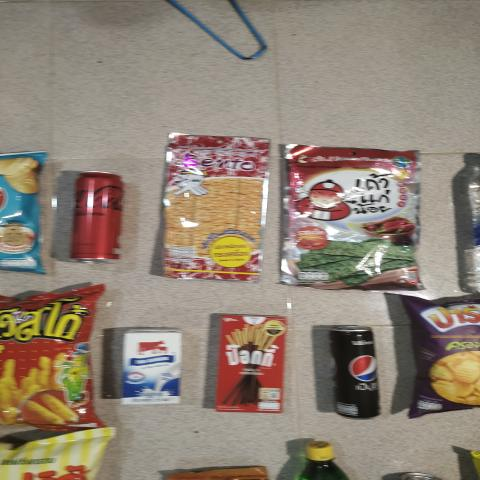bento_red: (170, 137, 261, 275)
coke_red: (69, 174, 120, 266)
pepsi_black: (329, 328, 383, 419)
pokki: (219, 314, 284, 413)
taokaenoi: (305, 150, 416, 282)
thai_denmark: (118, 330, 178, 405)
twisco: (0, 288, 98, 429)
